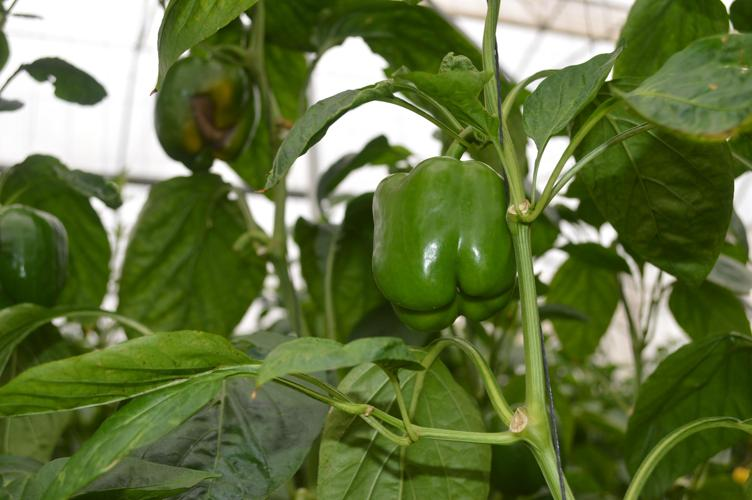BellPepper: (359, 159, 519, 341), (142, 44, 270, 183), (1, 201, 79, 321)
